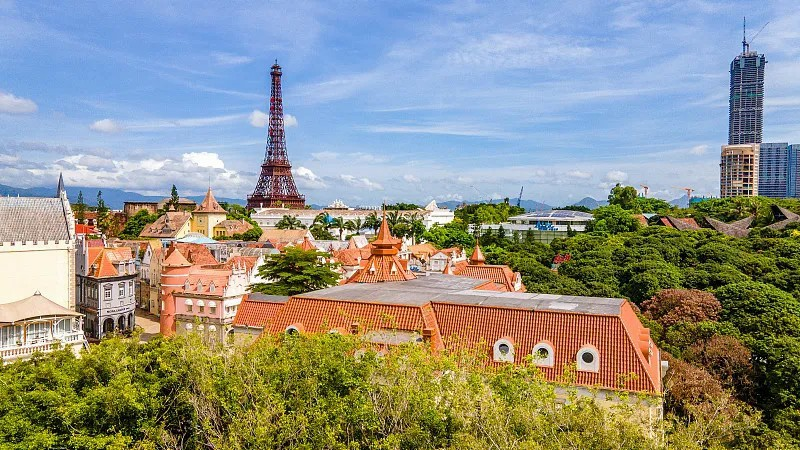Eiffel: (246, 58, 306, 209)
